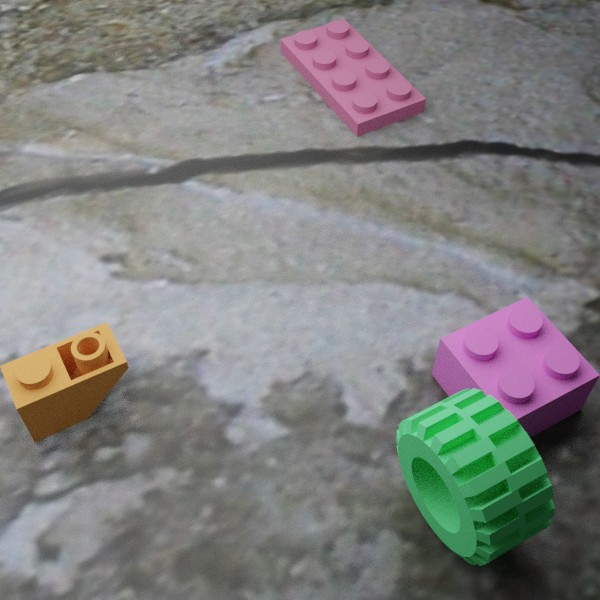lego: (396, 388, 554, 566), (431, 296, 600, 456), (280, 18, 426, 136), (0, 322, 128, 442)
